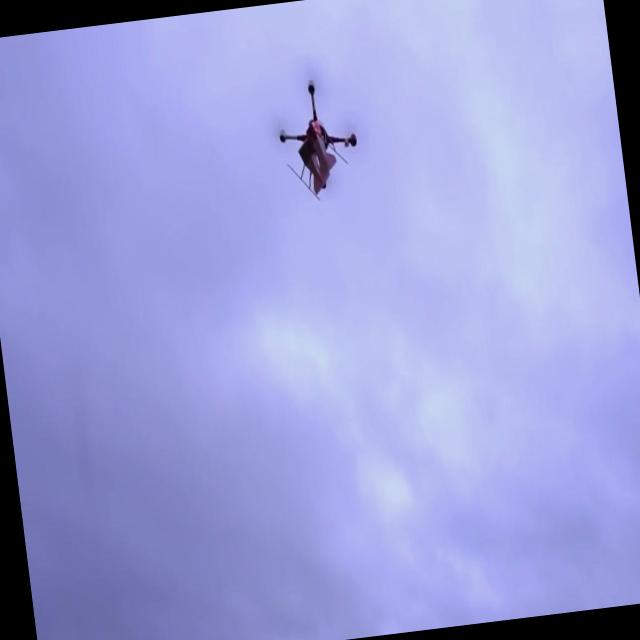drone: (270, 72, 364, 207)
